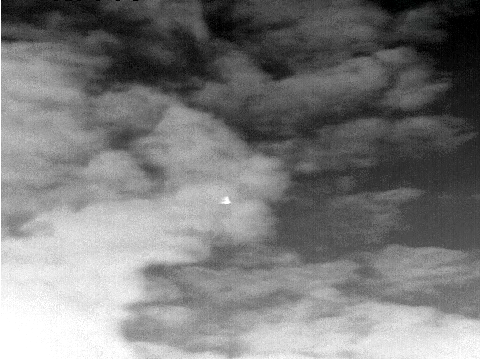dim target: (219, 195, 232, 206)
